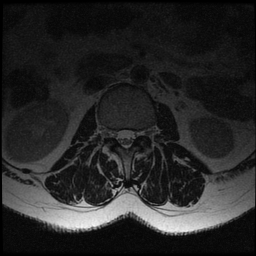CCS_normal: (122, 124, 129, 155)
LFS_stenosis: (136, 125, 143, 142)
LLS_normal: (129, 124, 135, 149)
RFS_normal: (108, 123, 116, 145)
RLS_normal: (116, 124, 122, 148)
